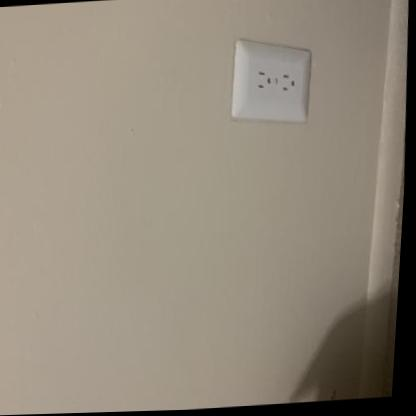OUTLET: (227, 34, 312, 131)
